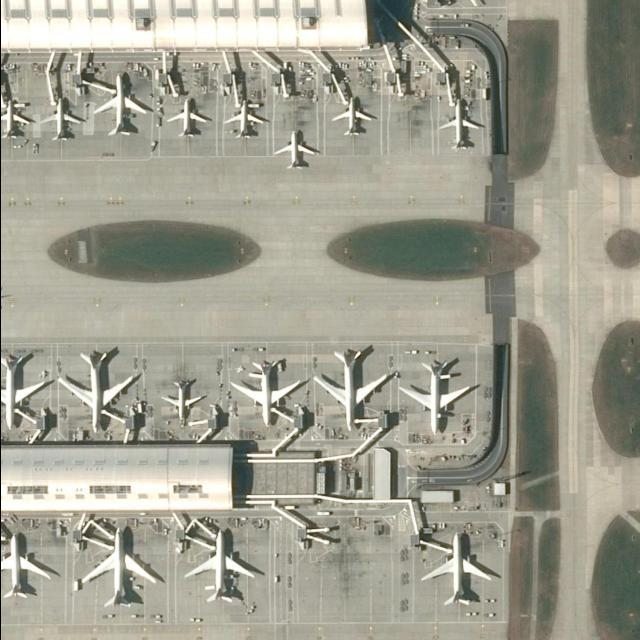Aircraft: (78, 526, 157, 609), (59, 350, 134, 432), (313, 348, 387, 431), (420, 530, 496, 607), (398, 362, 472, 434), (186, 530, 256, 602), (229, 358, 301, 424), (0, 353, 45, 429), (0, 525, 51, 592), (93, 73, 147, 135), (438, 99, 480, 150), (225, 97, 266, 139), (41, 96, 80, 140), (332, 96, 372, 136), (276, 129, 316, 169), (164, 382, 204, 422), (168, 95, 206, 137), (0, 103, 28, 139)
